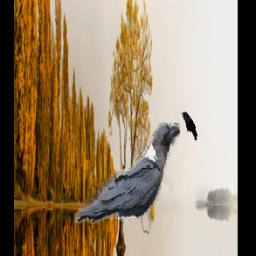Crow: (75, 124, 181, 225), (182, 112, 198, 141)
